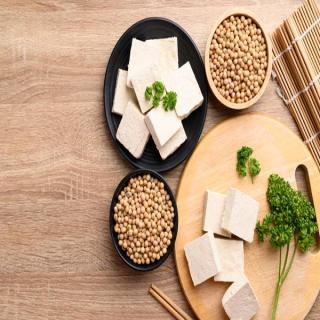Tahu: (97, 36, 218, 168), (187, 186, 264, 320)
